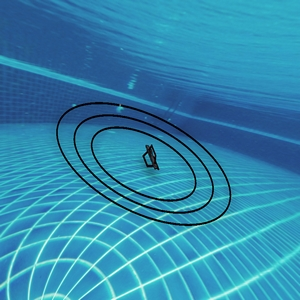circle: (51, 35, 240, 270)
submarine: (142, 143, 158, 167)
